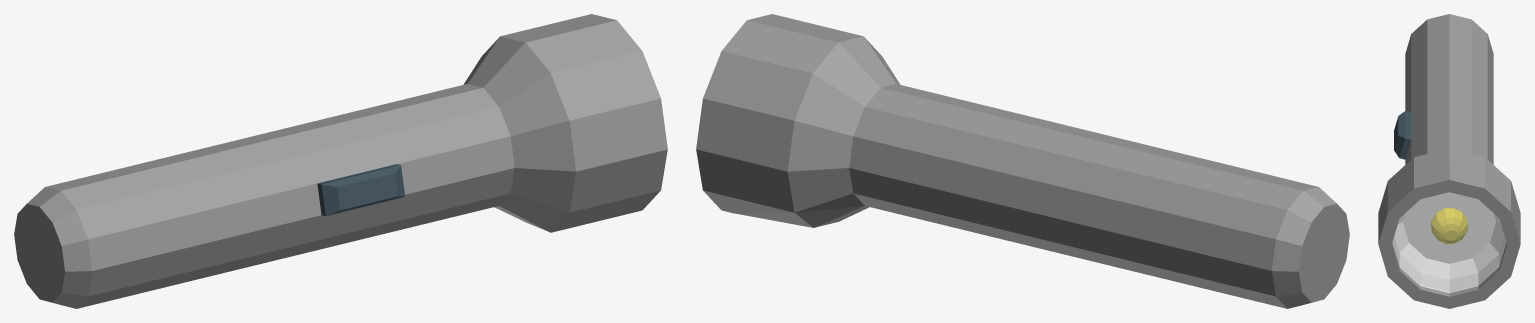
Rendered from Flashlight.glb.
3 renders of one model, left to right at view 1: azimuth 30°, elevation 25°; view 2: azimuth 150°, elevation 25°; view 3: azimuth 270°, elevation 25°, orthographic. The views are drawn at different scales.
Visible parts, largest first — view 1: Node; view 2: Node; view 3: Node.
Boxes of the visible parts, <box> form: Node: <box>14,14,667,308</box>; Node: <box>696,14,1349,308</box>; Node: <box>1378,14,1520,308</box>.
Bounding box in the file's own units: 1.64 × 0.4993 × 0.4993.
